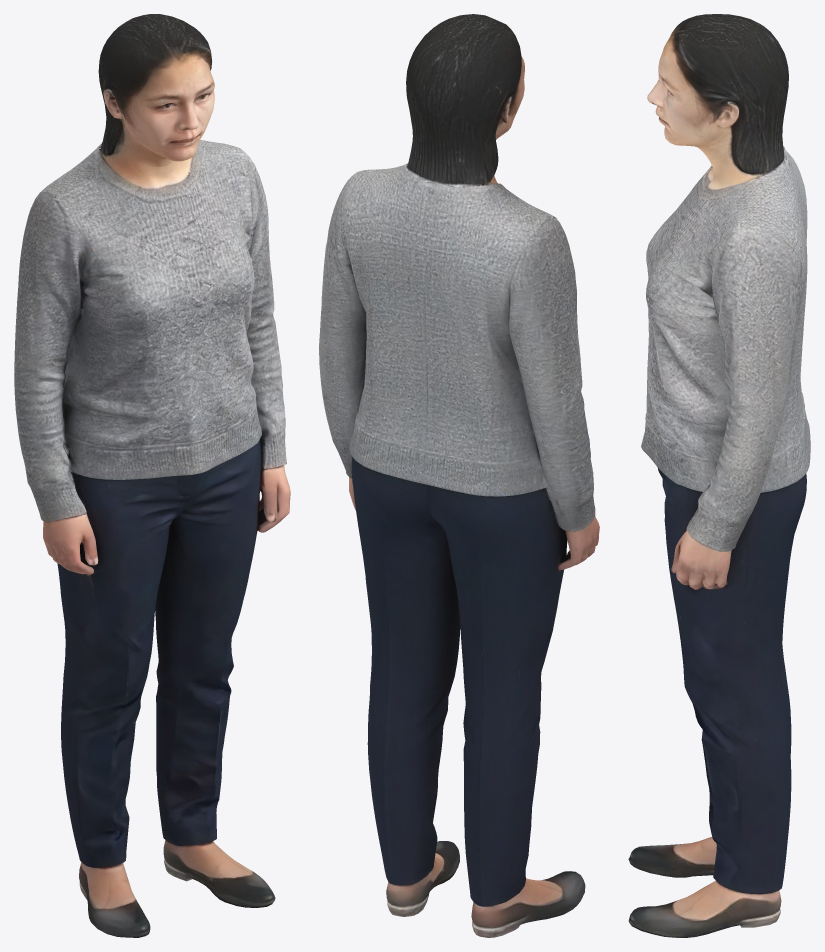
Rendered from per2.glb.
3 views of the same model, side by side, from view 1: azimuth 30°, elevation 25°; view 2: azimuth 150°, elevation 25°; view 3: azimuth 270°, elevation 25° (orthographic).
Parts seen in each view (by area): view 1: model; view 2: model; view 3: model.
Boxes of the visible parts, left/top/right/bottom form: model: left=14, top=14, right=290, bottom=937; model: left=319, top=14, right=599, bottom=937; model: left=628, top=14, right=810, bottom=937.
Bounding box in the file's own units: 0.308 × 1 × 0.1874.
1 material, 1 textured.
